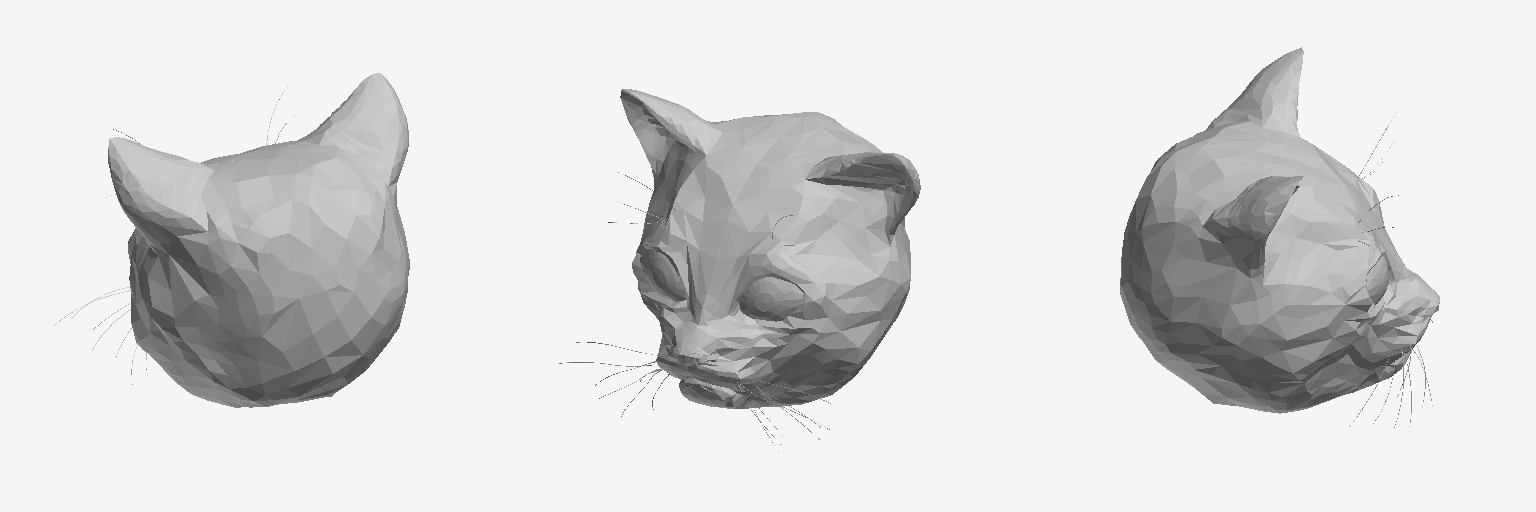
Rendered from bonusE1.obj.
3 views of the same model, side by side, from view 1: azimuth 30°, elevation 25°; view 2: azimuth 150°, elevation 25°; view 3: azimuth 270°, elevation 25° (orthographic).
Size of the model in its own units: 5.99 by 5.64 by 5.75.